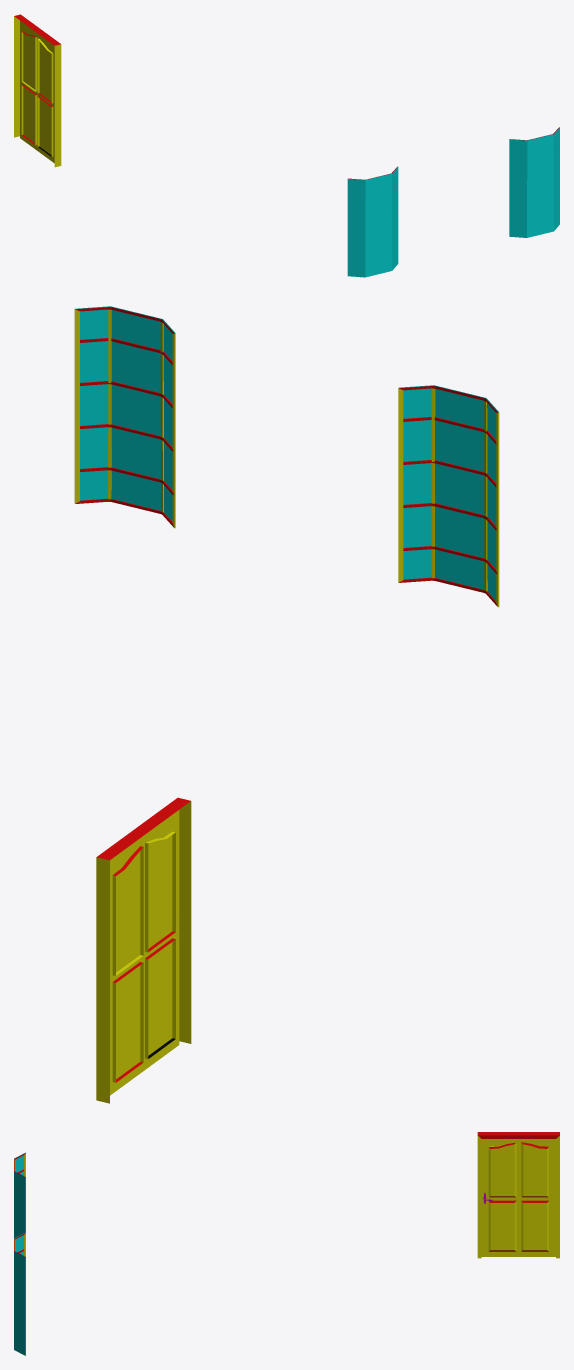
Rendered from SM_Door-Windows_001.fbx.
The picture shows the model from 3 angles, top to bottom: view 1: azimuth 30°, elevation 25°; view 2: azimuth 150°, elevation 25°; view 3: azimuth 270°, elevation 25°; orthographic projection. The views are drawn at different scales.
Visible parts, largest first — view 1: Door_Windows_001; view 2: Door_Windows_001; view 3: Door_Windows_001.
Boxes of the visible parts, left/top/right/bottom form: Door_Windows_001: left=14, top=14, right=559, bottom=277; Door_Windows_001: left=74, top=306, right=499, bottom=1103; Door_Windows_001: left=14, top=1132, right=559, bottom=1355.
Size of the model in its own units: 574 by 263 by 953.
